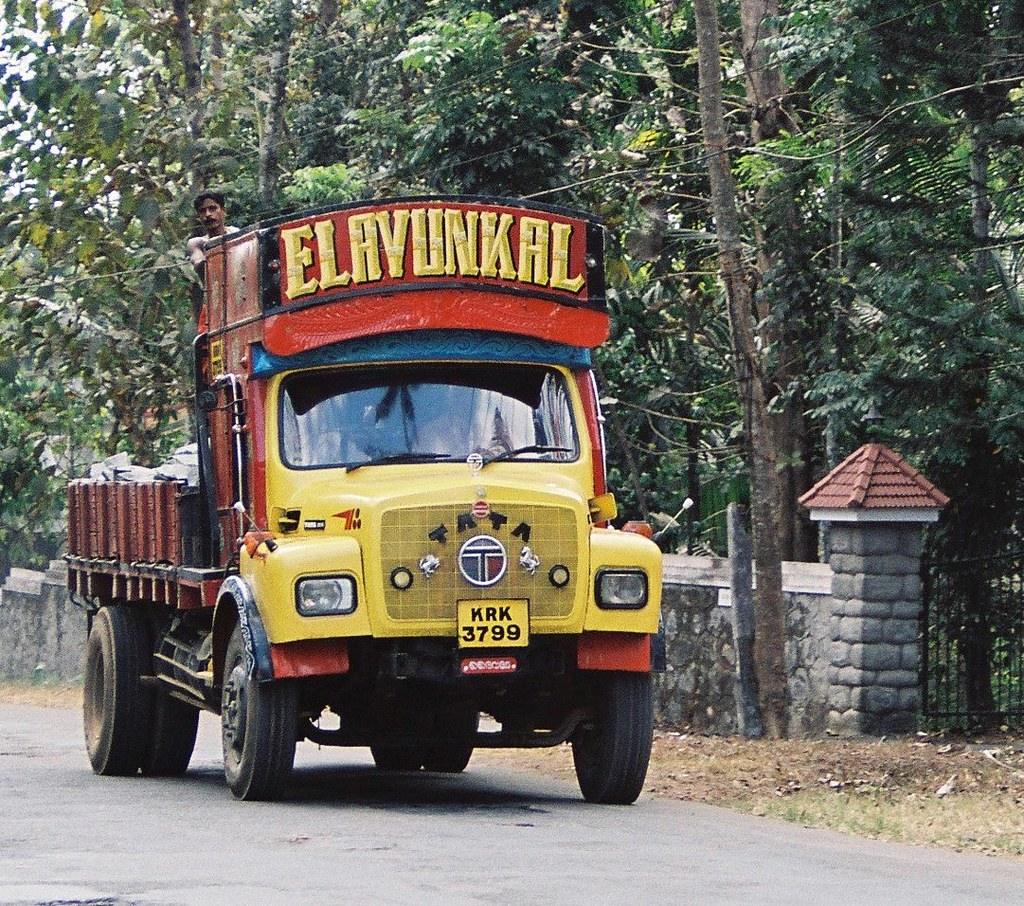lorry: (39, 196, 714, 825)
numberplate: (453, 589, 537, 656)
